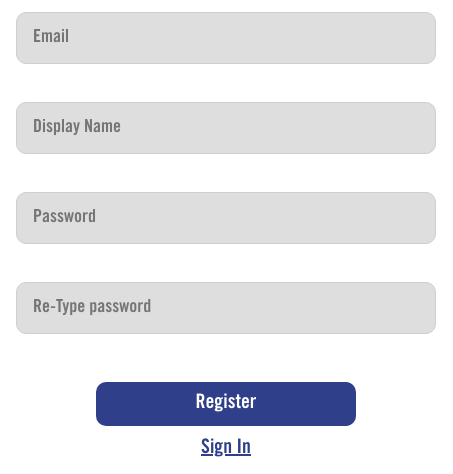
Test: shows error when email is empty
The width and height of the screenshot is (453, 474).
Click the button "Register".
click(226, 404)  # box top-left (96, 382), bottom-right (356, 426)
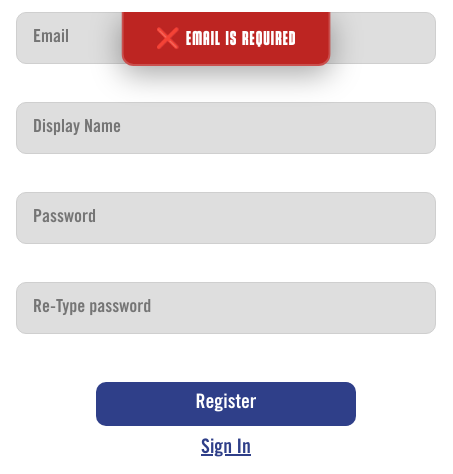
Result: the text "❌ Email is required" is shown at top-left (122, 12), bottom-right (330, 66)
